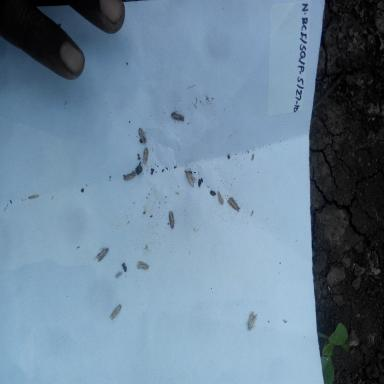pbw: (135, 257, 157, 275), (243, 308, 258, 333), (91, 245, 110, 264), (136, 124, 152, 146), (108, 301, 123, 322), (166, 206, 178, 232), (184, 167, 198, 188), (170, 106, 186, 124), (226, 195, 242, 212), (138, 146, 150, 165), (122, 170, 139, 182), (216, 189, 224, 206)
